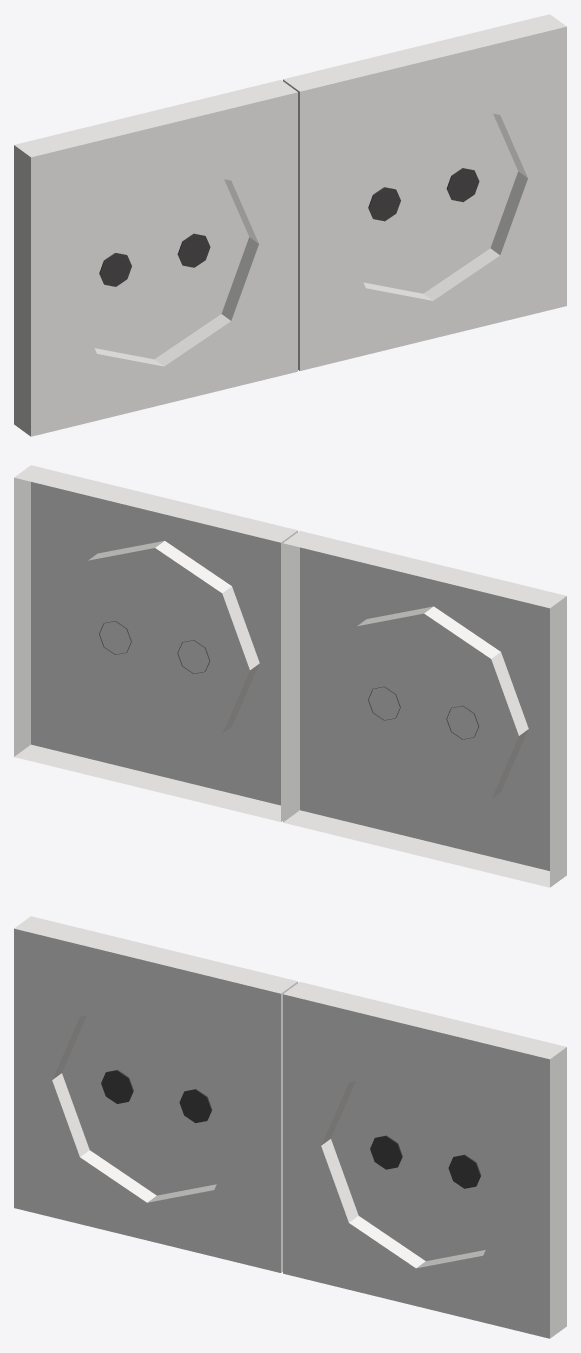
File: Socket.fbx
The picture shows the model from 3 angles, top to bottom: view 1: azimuth 30°, elevation 25°; view 2: azimuth 150°, elevation 25°; view 3: azimuth 330°, elevation 25°; orthographic projection.
Parts seen in each view (by area): view 1: Socket; view 2: Socket; view 3: Socket.
Part boxes in pixels (<box>): Socket: <box>14,14,566,436</box>; Socket: <box>14,465,566,887</box>; Socket: <box>14,916,566,1338</box>.
Size of the model in its own units: 27.17 by 1.49 by 13.53.
